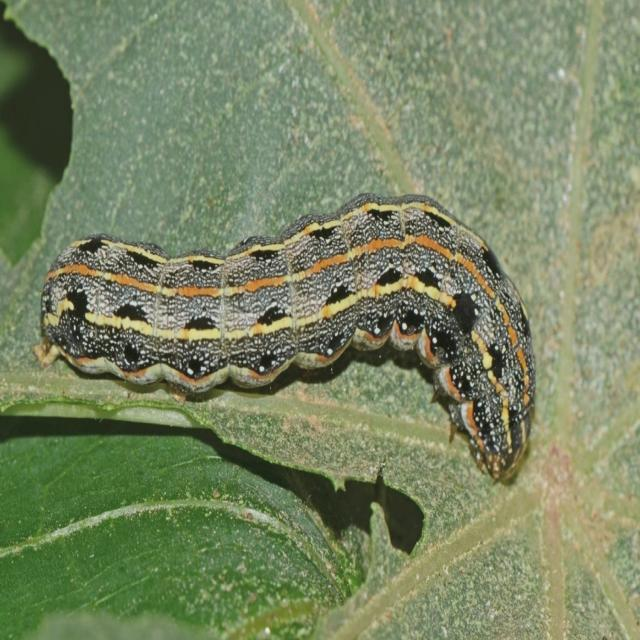armyworm: (33, 190, 536, 484)
